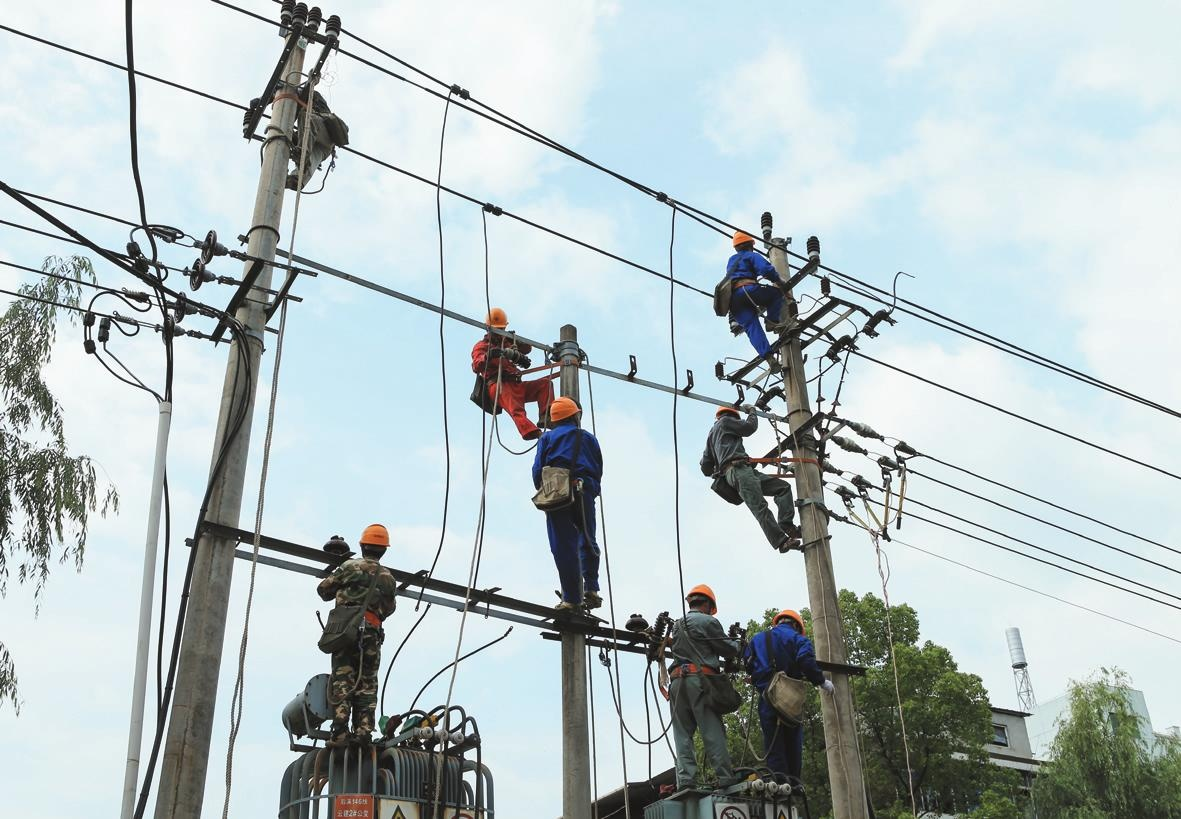red: (548, 394, 582, 431), (684, 582, 719, 617), (358, 523, 389, 559), (772, 607, 808, 636), (729, 227, 754, 255), (484, 307, 508, 335), (712, 403, 740, 424)
